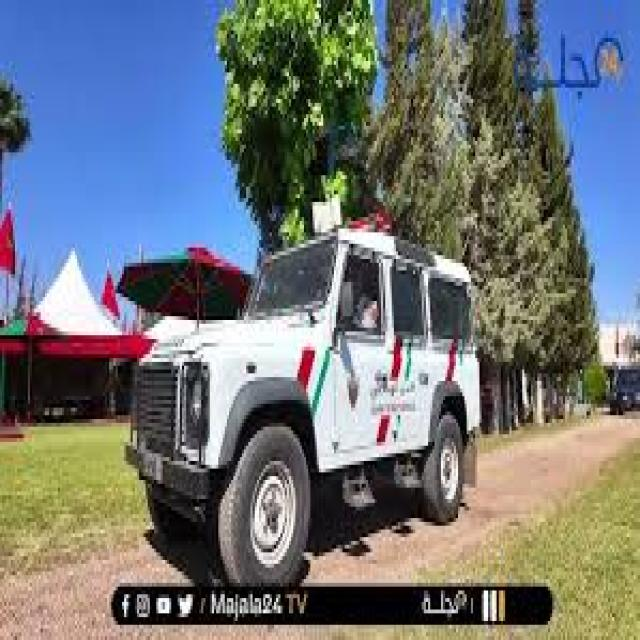Police car: (121, 201, 486, 591)
